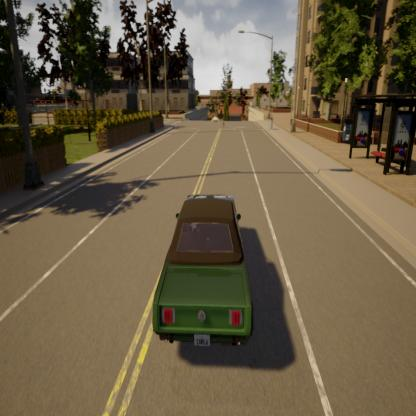Cars: (145, 178, 269, 382)
